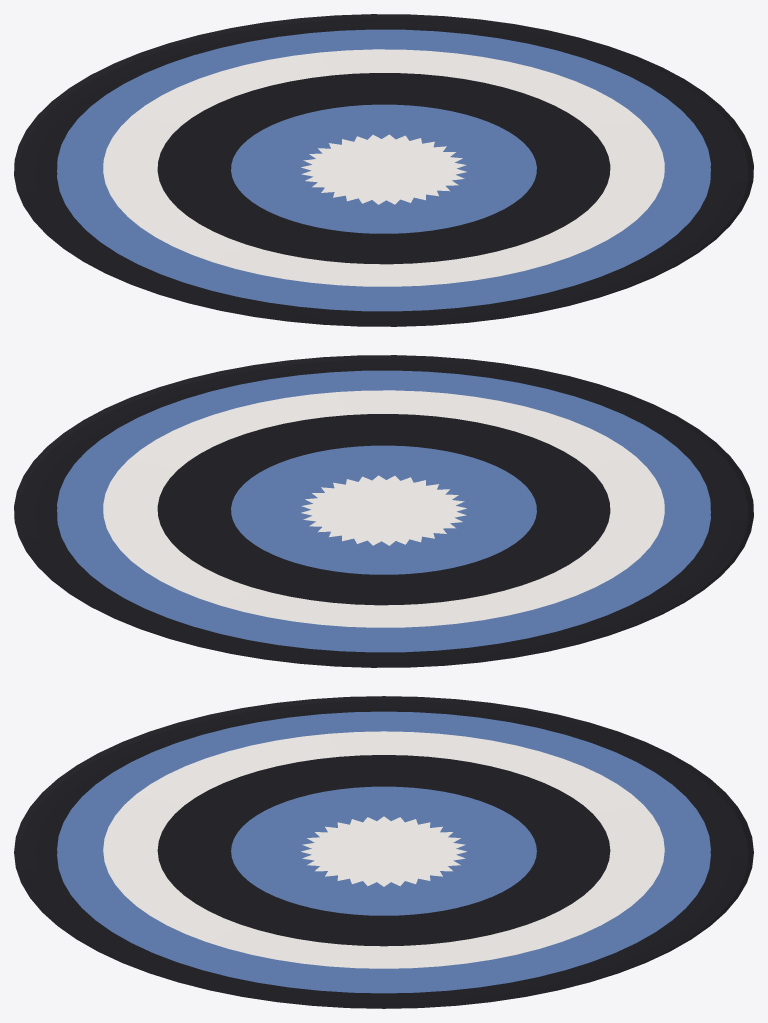
File: Taperte1.fbx
3 views of the same model, one above another, from view 1: azimuth 30°, elevation 25°; view 2: azimuth 150°, elevation 25°; view 3: azimuth 270°, elevation 25° (orthographic).
Parts seen in each view (by area): view 1: Cylinder.011; view 2: Cylinder.011; view 3: Cylinder.011.
Boxes of the visible parts, left/top/right/bottom form: Cylinder.011: left=14, top=14, right=753, bottom=326; Cylinder.011: left=14, top=355, right=753, bottom=667; Cylinder.011: left=14, top=696, right=753, bottom=1008.
Size of the model in its own units: 183 by 1.54 by 183.
